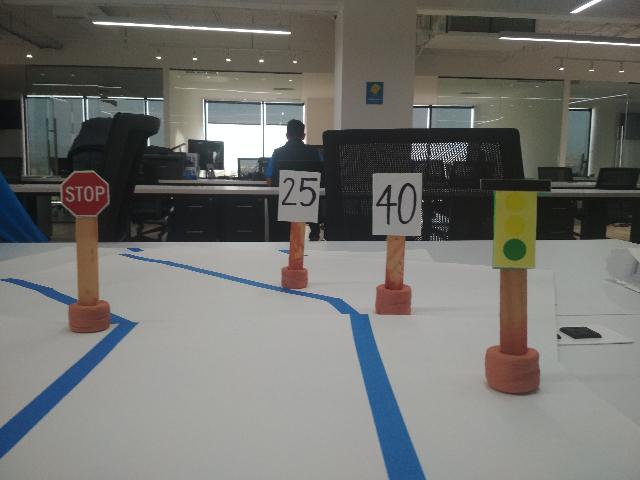Green Traffic Light: (476, 178, 556, 270)
Speed Limit 25: (278, 167, 322, 226)
Speed Limit 40: (367, 170, 423, 237)
Stop Sign: (56, 168, 116, 219)
